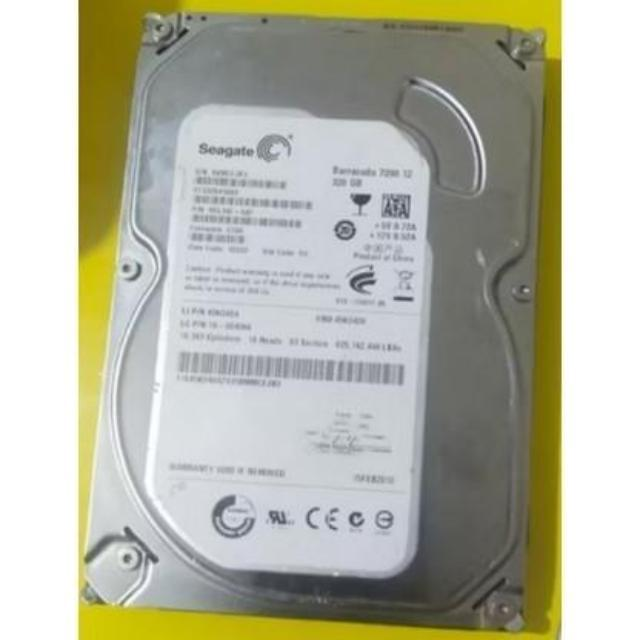DISK: (84, 11, 538, 637)
